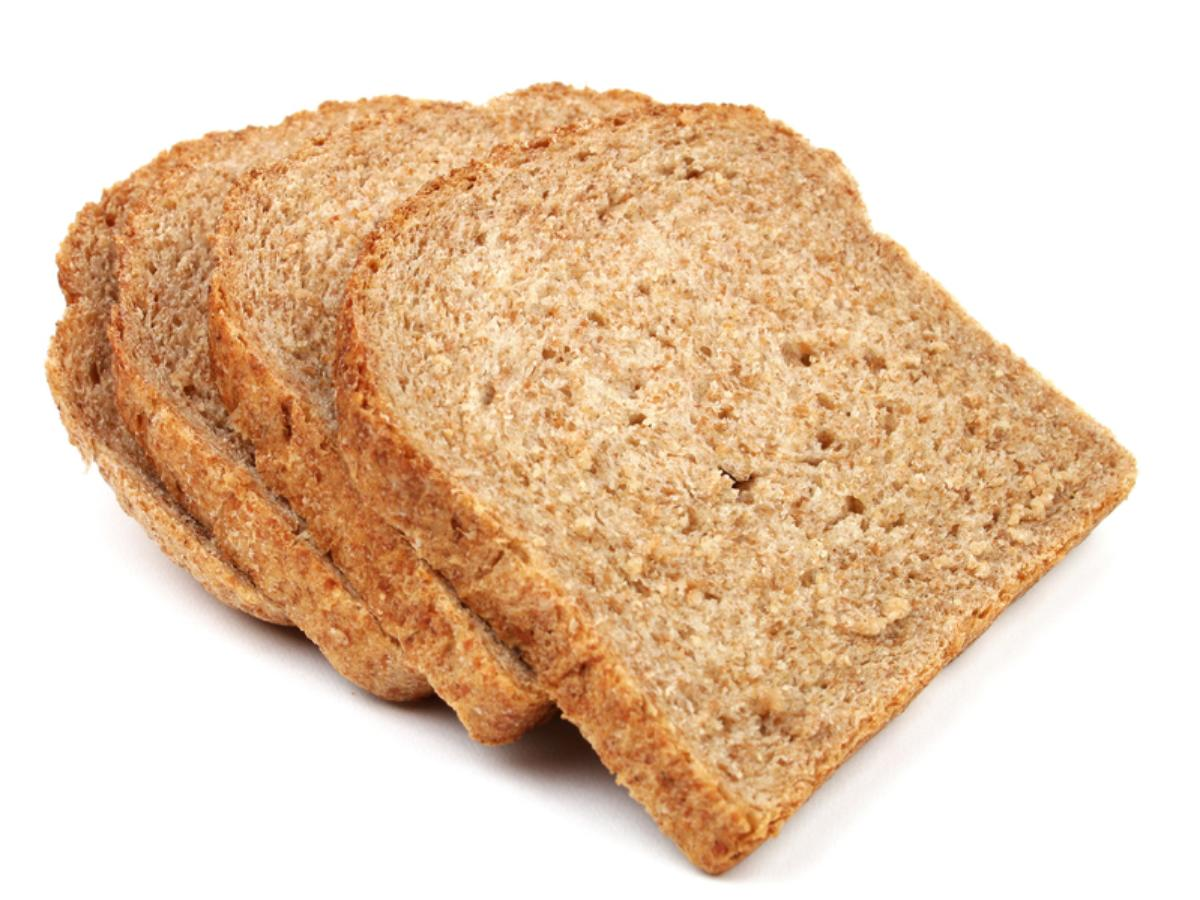slice of bread: (65, 120, 1146, 850)
